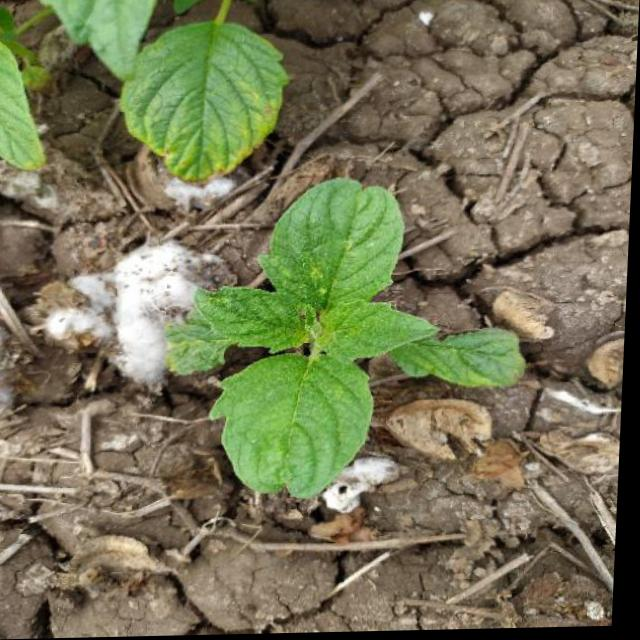crop: (122, 169, 544, 505)
